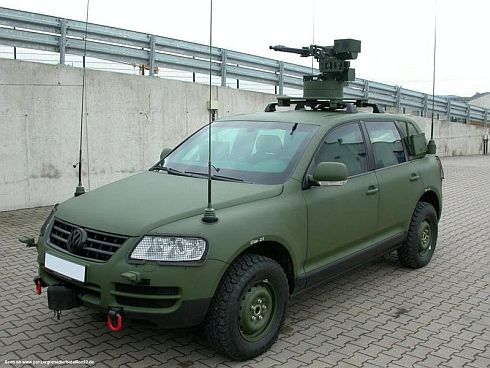rifle: (267, 35, 378, 93)
